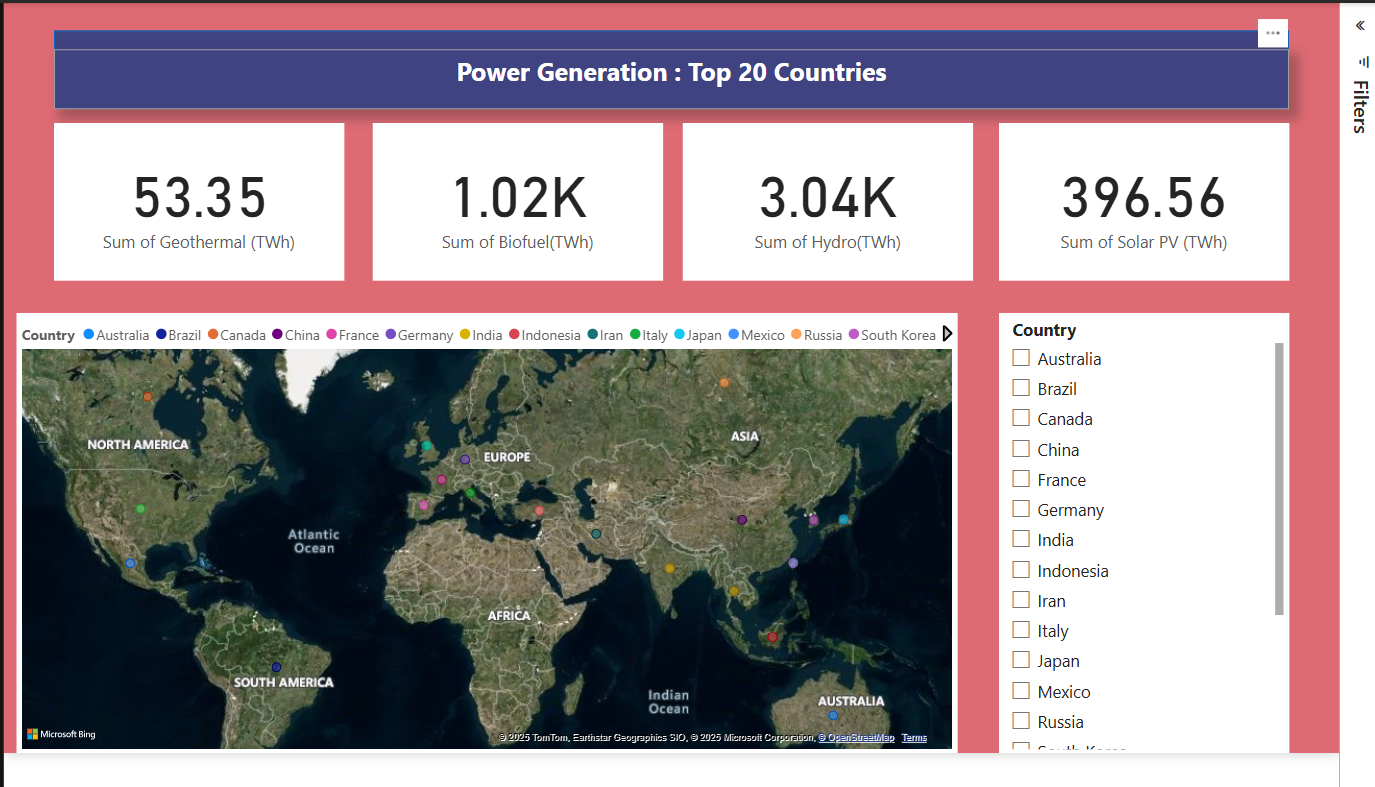

This screenshot's page, from the dashboard's own definition file:
{"tool":"powerbi","page":{"name":"Page 3","canvas":[1280,720],"ordinal":2},"visuals":[{"type":"map","fields":{"Category":["top20CountriesPowerGeneration.Country"],"Series":["top20CountriesPowerGeneration.Country"]},"box":[12,297.2,902.5,423.1],"z":0},{"type":"shape","box":[47.9,26.4,1184.1,75.5],"z":1000},{"type":"textbox","box":[47.9,44.3,1184.1,57.5],"z":2000},{"type":"card","fields":{"Values":["Sum(top20CountriesPowerGeneration.Geothermal (TWh))"]},"box":[47.9,115.1,278.1,151],"z":3000},{"type":"card","fields":{"Values":["Sum(top20CountriesPowerGeneration.Biofuel(TWh))"]},"box":[353.6,115.1,278.1,151],"z":4000},{"type":"card","fields":{"Values":["Sum(top20CountriesPowerGeneration.Hydro(TWh))"]},"box":[650.8,115.1,278.1,151],"z":5000},{"type":"card","fields":{"Values":["Sum(top20CountriesPowerGeneration.Solar PV (TWh))"]},"box":[954,115.1,278.1,151],"z":6000},{"type":"slicer","fields":{"Values":["top20CountriesPowerGeneration.Country"]},"box":[954,297,278,423],"z":7000}]}

Visuals, with their boxes on the page's 1280x720 design canvas (x1, y1, x2, y2). These are canvas units, not pixel positions in the 1375x787 screenshot, which may show the page scaled, cropped or inside an application window:
map - top20CountriesPowerGeneration.Country x top20CountriesPowerGeneration.Country: 12:297:914:720
shape: 48:26:1232:102
textbox: 48:44:1232:102
card - Sum(top20CountriesPowerGeneration.Geothermal (TWh)): 48:115:326:266
card - Sum(top20CountriesPowerGeneration.Biofuel(TWh)): 354:115:632:266
card - Sum(top20CountriesPowerGeneration.Hydro(TWh)): 651:115:929:266
card - Sum(top20CountriesPowerGeneration.Solar PV (TWh)): 954:115:1232:266
slicer - top20CountriesPowerGeneration.Country: 954:297:1232:720
